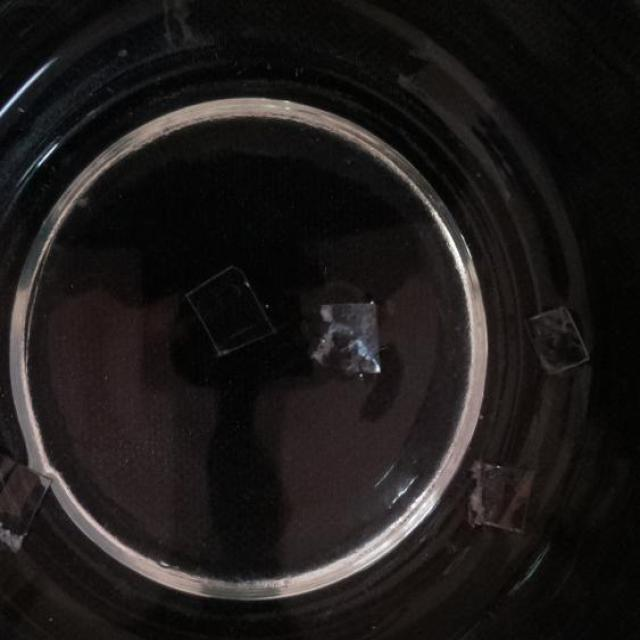fiber: (185, 261, 279, 358), (312, 298, 384, 376), (468, 458, 538, 537), (0, 456, 54, 557), (520, 307, 594, 378)
